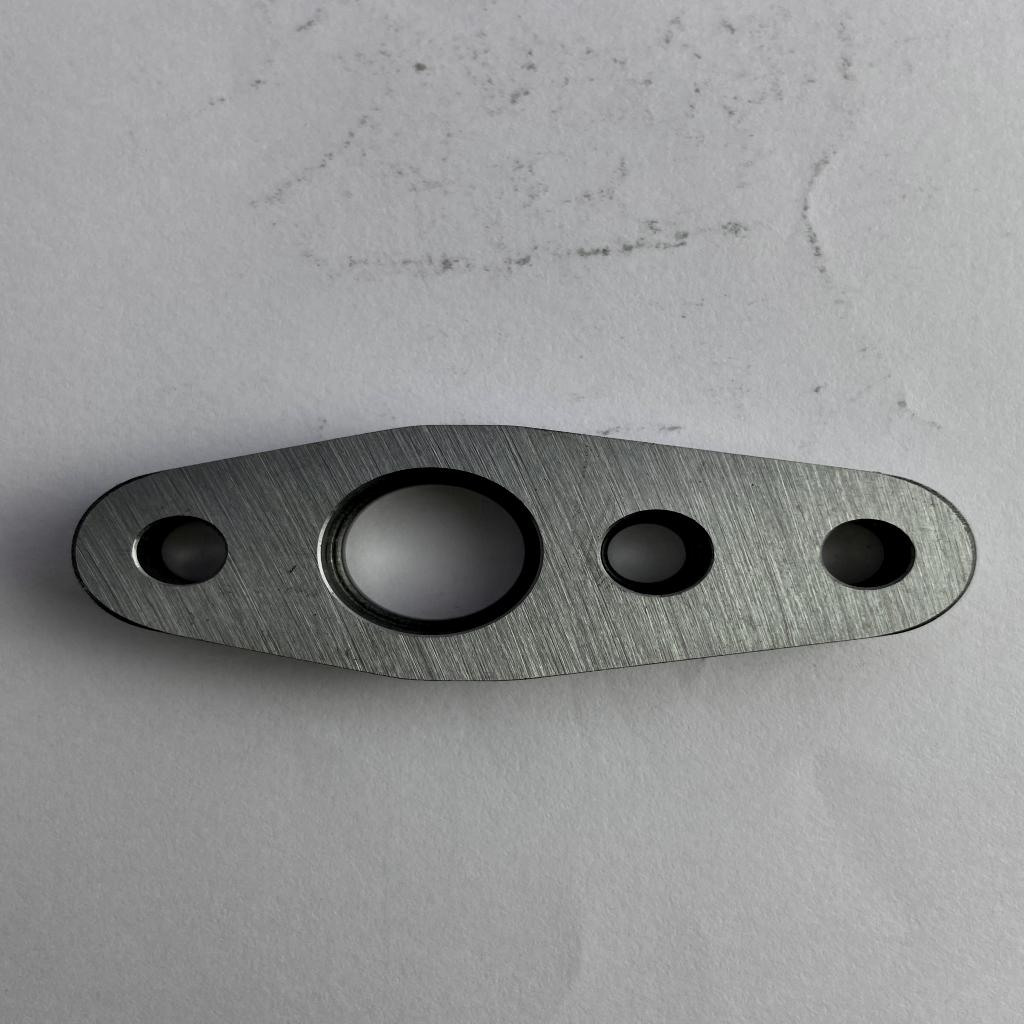chap: (287, 562, 298, 576)
